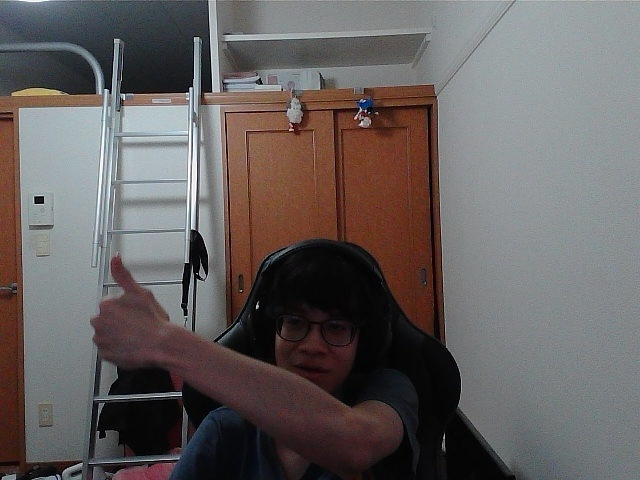thumb_up: (97, 259, 160, 357)
